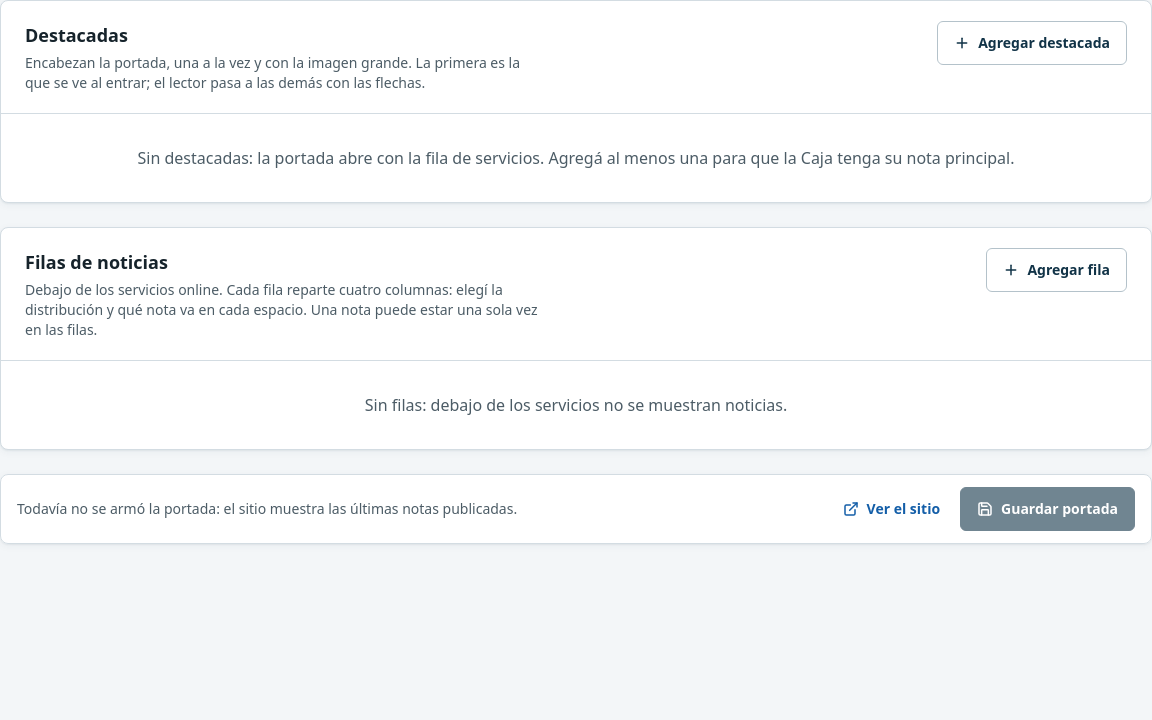
armado de la portada › elige distribución y notas, y guarda el armado
This screenshot has width=1152, height=720.
Click the button "Agregar destacada".
click(1032, 43)  # box [937, 21, 1127, 65]
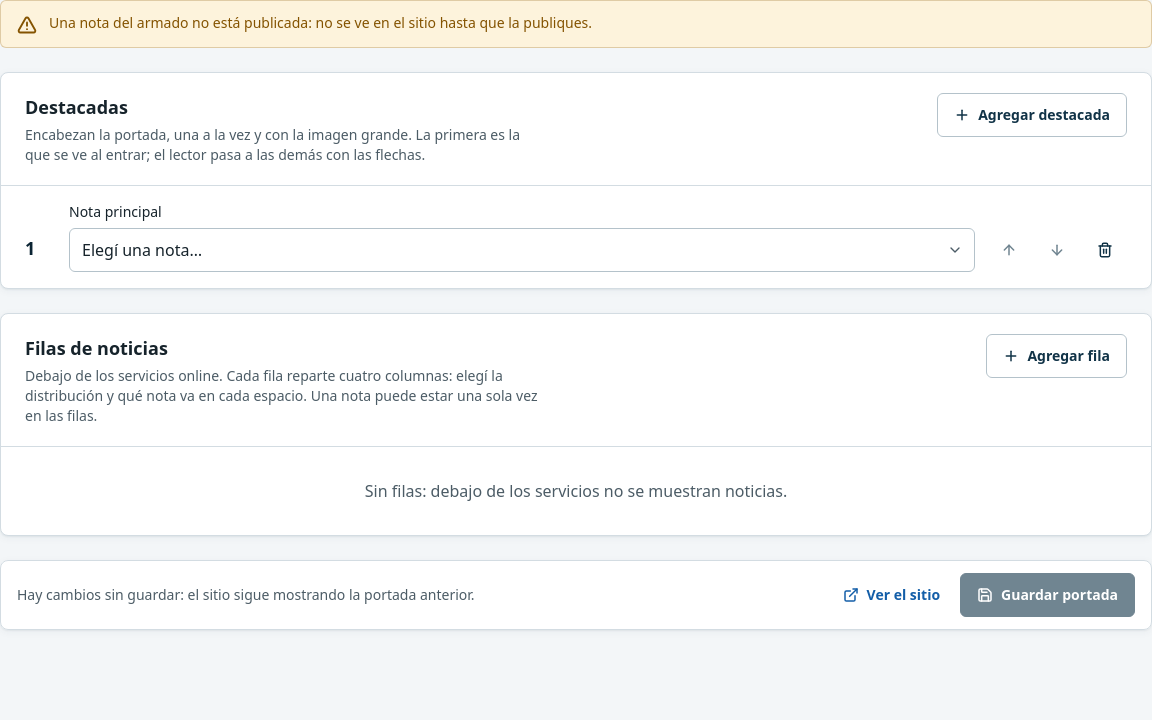
Select "Publicada" in the dropdown labelled "Nota principal" at (522, 250), box [69, 228, 975, 272]
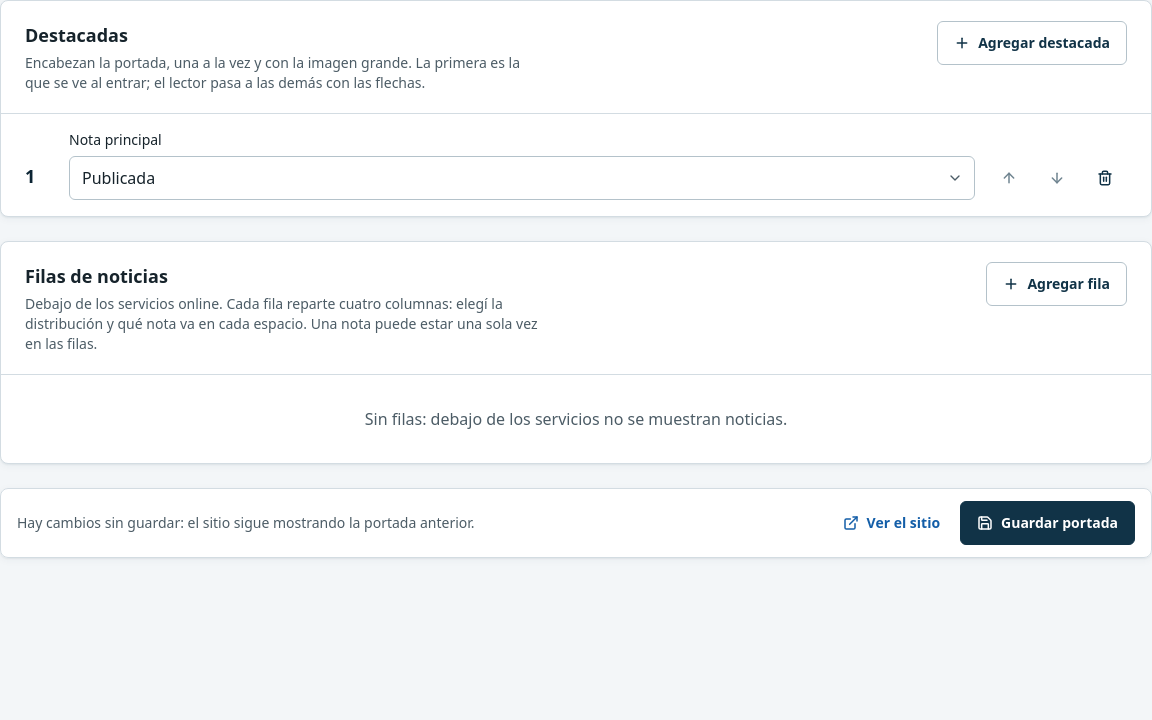
Click the button "Agregar fila".
click(1057, 284)  # box [986, 262, 1127, 306]
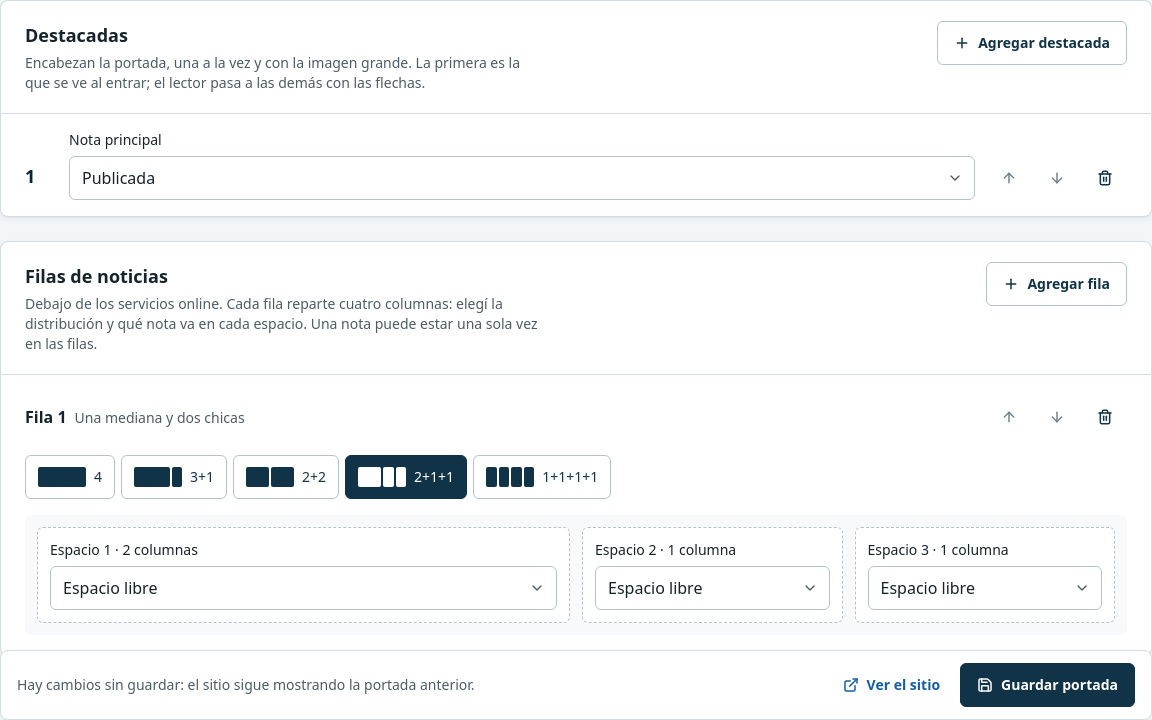
Click the radio button labelled "2+2".
click(286, 477)  # box [233, 455, 339, 499]
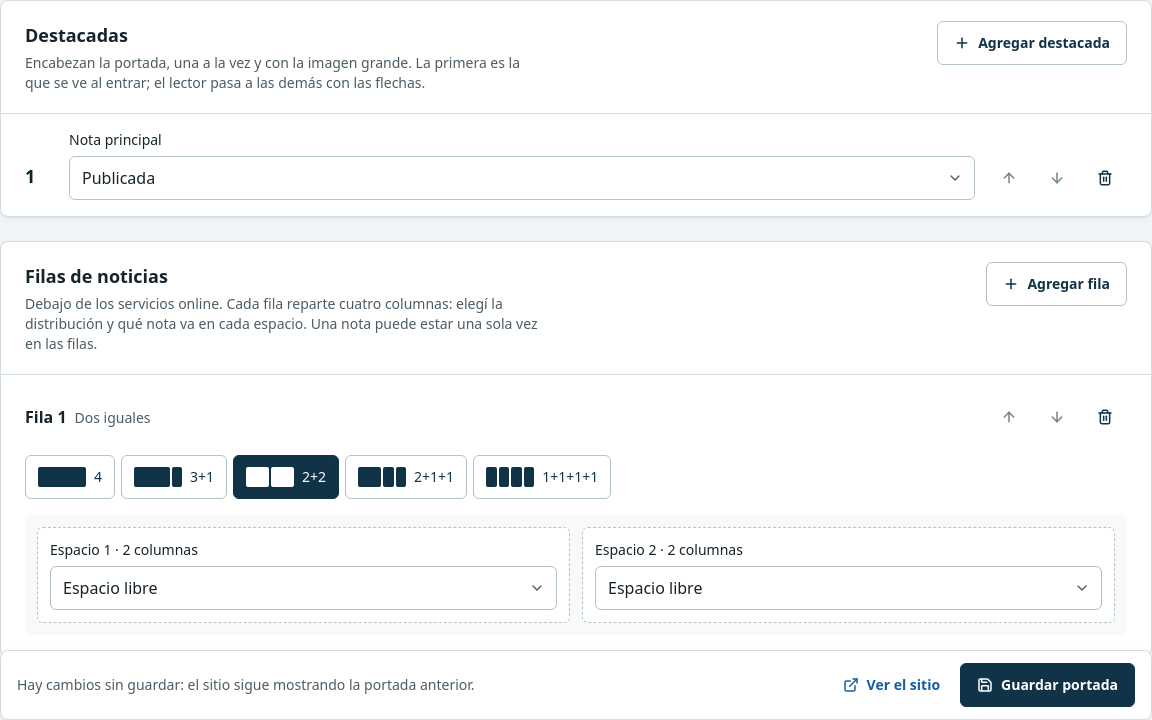
Select "En borrador (borrador: no se ve)" in the dropdown labelled "Espacio 2 · 2 columnas" at (848, 588), box [595, 566, 1102, 610]
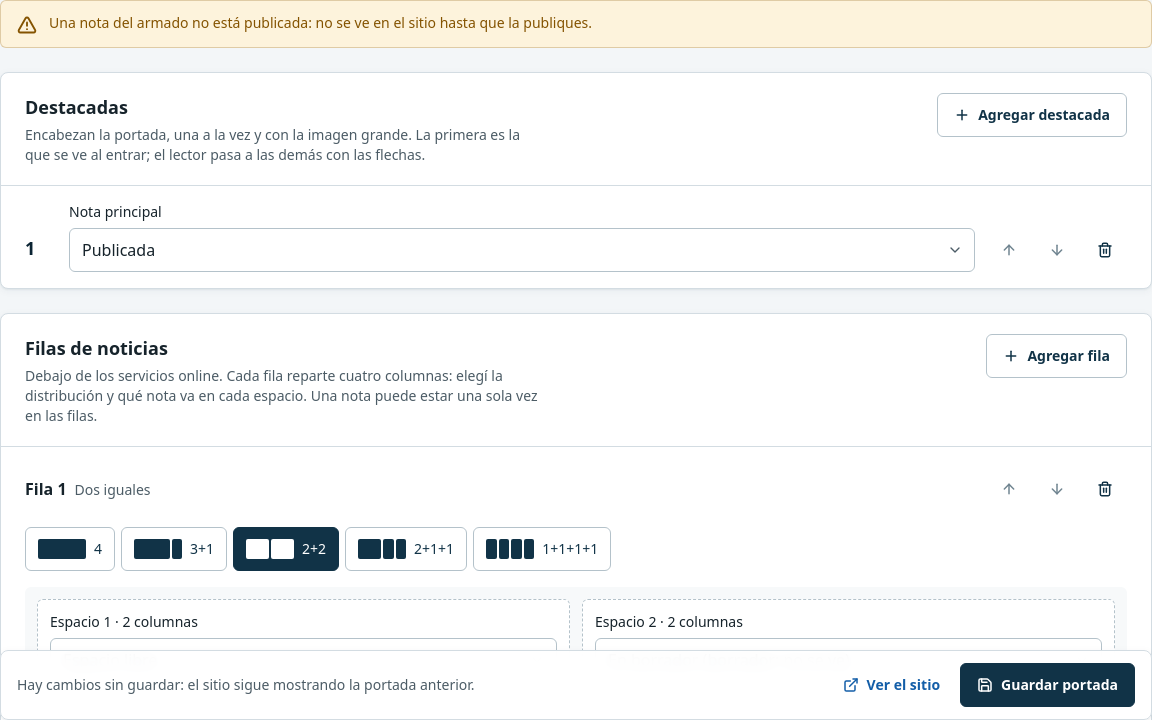
Expected: the text "no está publicada" is shown, [49, 13, 592, 32]
Click the button "Guardar portada".
click(1048, 685)  # box [960, 663, 1135, 707]
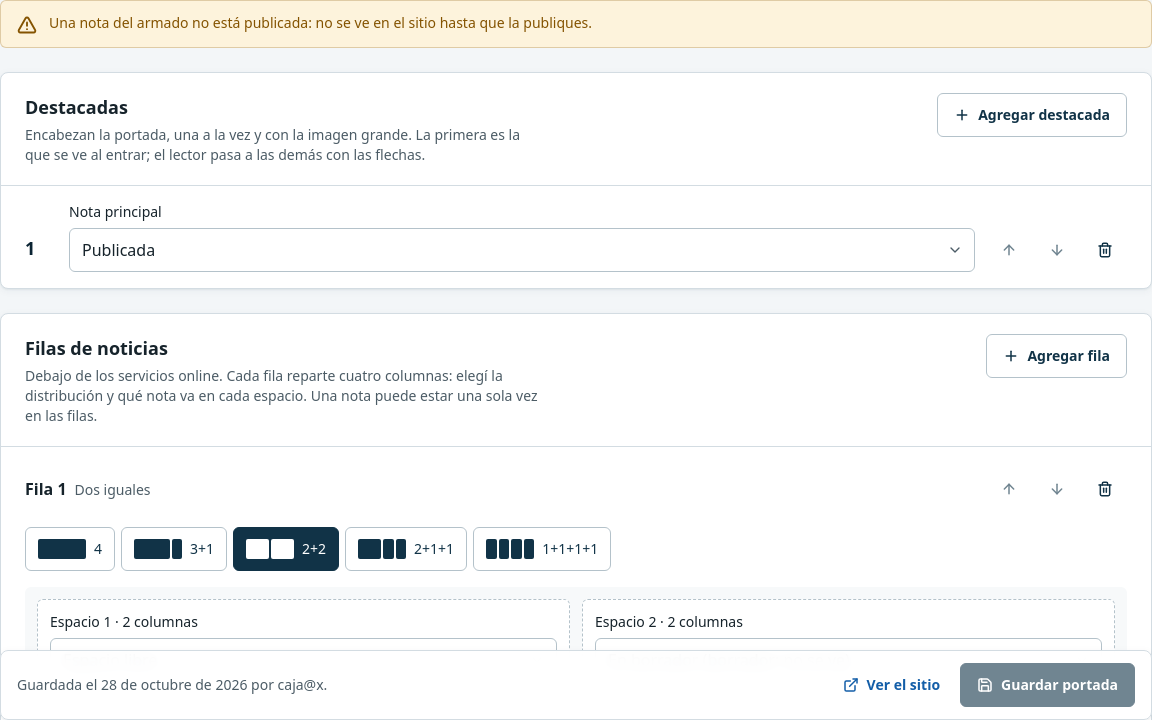
Expected: the text "Guardada el 28 de octubre de 2026 por caja@x." is shown, [17, 675, 327, 695]
